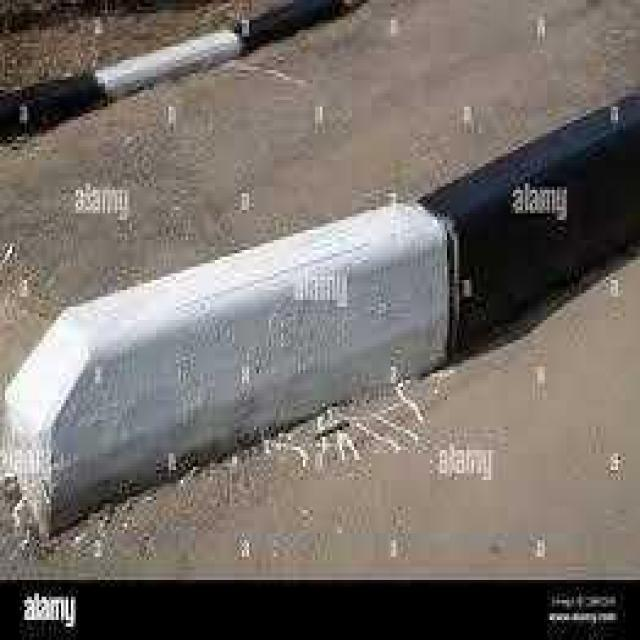bump: (15, 194, 512, 529)
